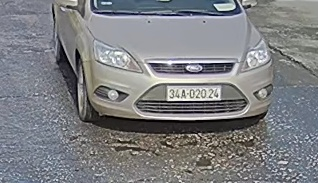vehicle plate: (163, 85, 224, 101)
